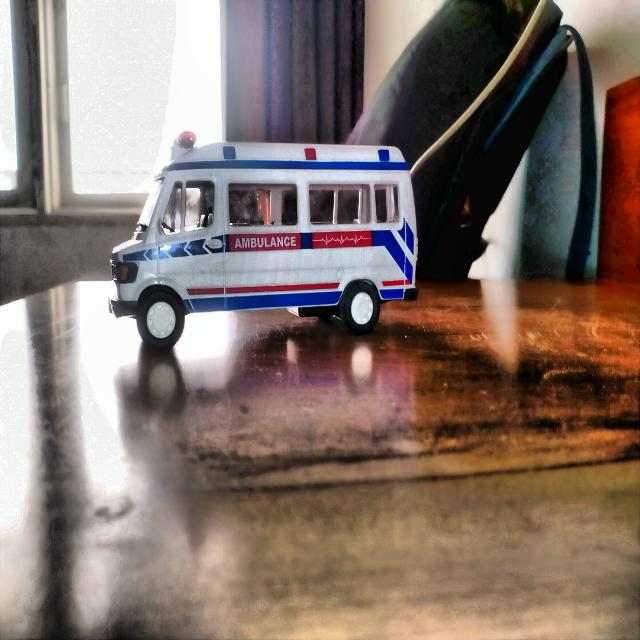Ambulance: (109, 143, 418, 350)
